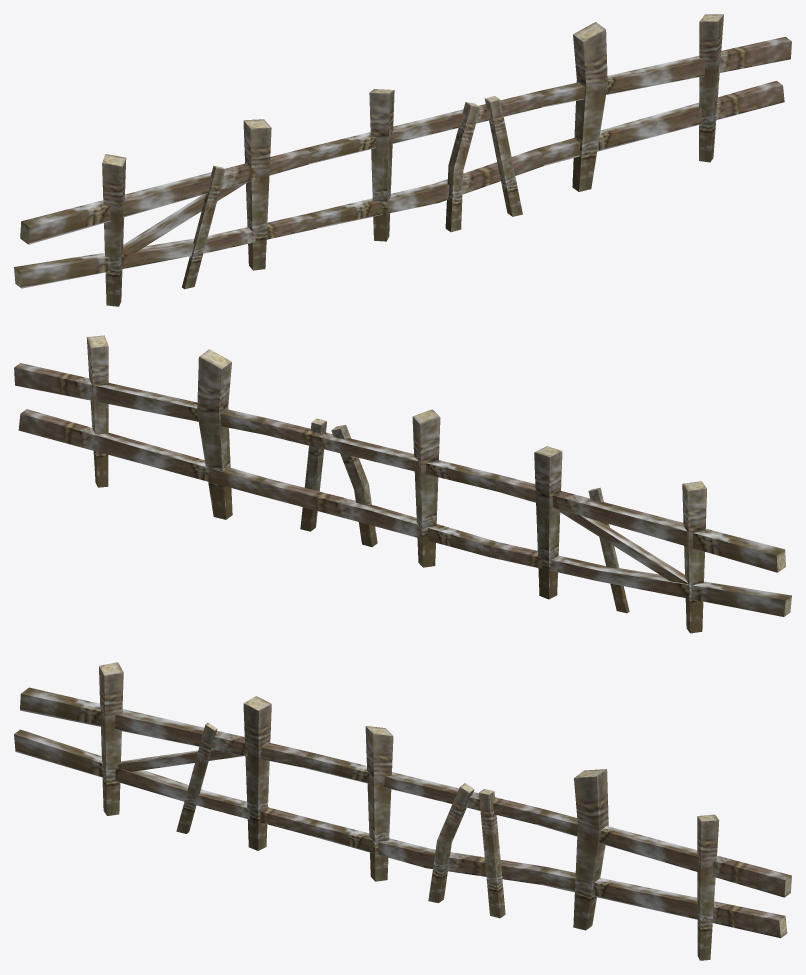
The model's file is s7_fight_zhalan_a_xue.FBX.
The picture shows the model from 3 angles, top to bottom: view 1: azimuth 30°, elevation 25°; view 2: azimuth 150°, elevation 25°; view 3: azimuth 330°, elevation 25°; orthographic projection.
Parts seen in each view (by area): view 1: s7_fight_zhalan_a_xue; view 2: s7_fight_zhalan_a_xue; view 3: s7_fight_zhalan_a_xue.
Boxes of the visible parts, x1=… form: s7_fight_zhalan_a_xue: x1=14, y1=14, x2=791, y2=306; s7_fight_zhalan_a_xue: x1=14, y1=335, x2=791, y2=633; s7_fight_zhalan_a_xue: x1=14, y1=662, x2=791, y2=960.
Size of the model in its own units: 5.39 by 1.06 by 0.2205.
1 material, 1 textured.
